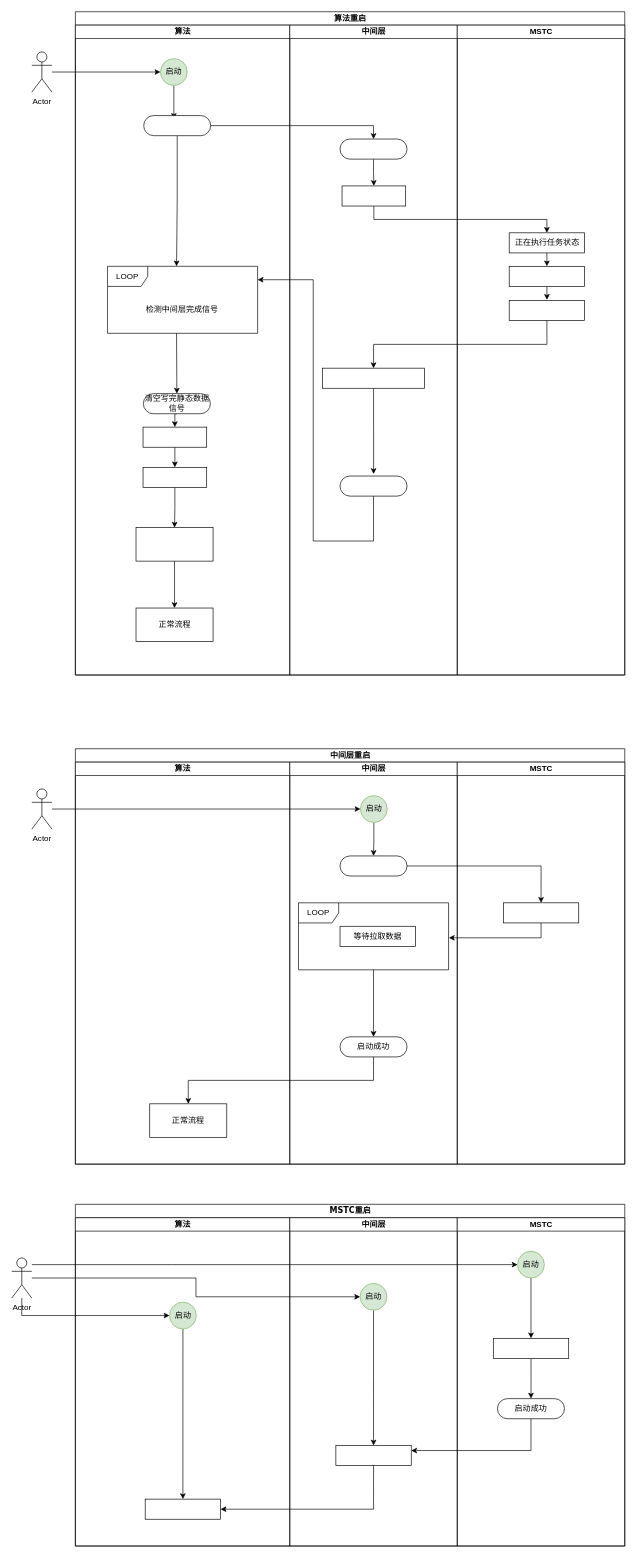
Some shapes in this 637 by 1558 pixel diagram are drawn without their labels. The centre of each missing label's shape, as x and y in pixels:
"MSTC准备数据完成" goes at (531,1348).
"OHT 与TASK绑定关系、状态重置" goes at (174,544).
"OHT状态加载" goes at (174,436).
"TASK 状态加载" goes at (174,477).
"中间层重启流程" goes at (373,1455).
"写入启动 信号" goes at (177,125).
"写完静态数据信号" goes at (373,485).
"向redis写入数据" goes at (373,377).
"未执行任务状态" goes at (547,310).
"查询MSTC 是否准备完毕" goes at (373,865).
"正在执行OHT状态" goes at (547,276).
"清空启动 信号" goes at (373,148).
"算法重启流程" goes at (183,1508).
"自检" goes at (541,912).
"请求任务、OHT数据" goes at (373,195).
